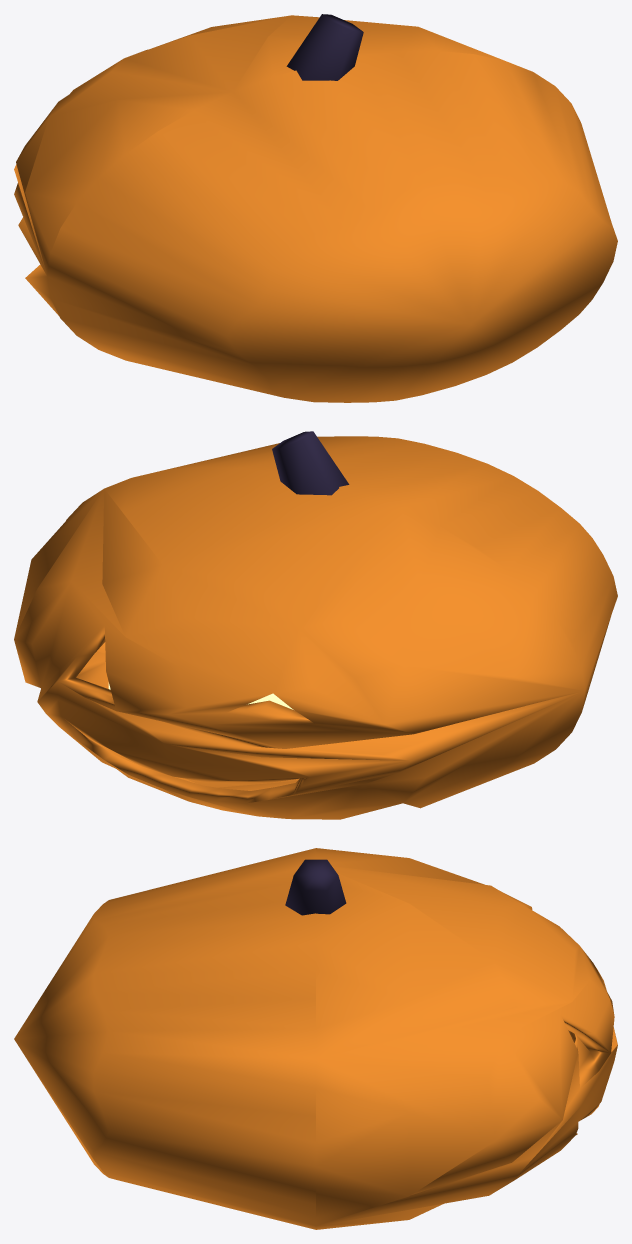
The model's file is pumpkin_small_b.glb.
The picture shows the model from 3 angles, top to bottom: view 1: azimuth 30°, elevation 25°; view 2: azimuth 150°, elevation 25°; view 3: azimuth 270°, elevation 25°; orthographic projection. The views are drawn at different scales.
Size of the model in its own units: 0.5 by 0.2988 by 0.4998.
